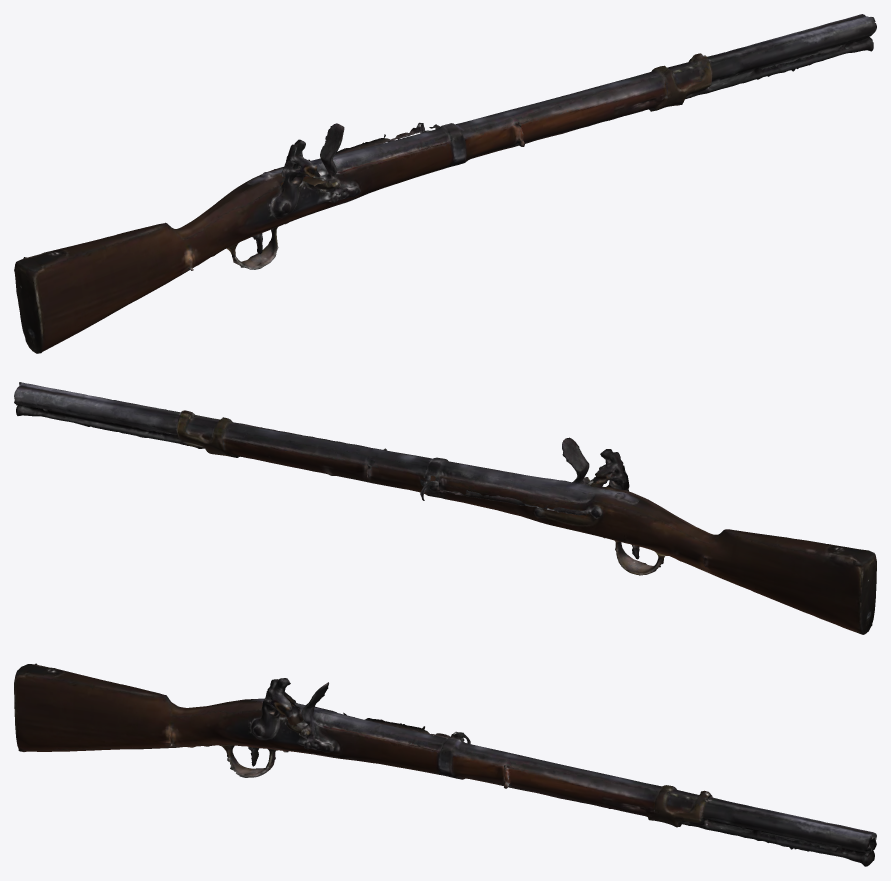
The model's file is 18th_century_musket_replica.lod2.glb.
The picture shows the model from 3 angles, top to bottom: view 1: azimuth 30°, elevation 25°; view 2: azimuth 150°, elevation 25°; view 3: azimuth 330°, elevation 25°; orthographic projection. The views are drawn at different scales.
Visible parts, largest first — view 1: Object_2; view 2: Object_2; view 3: Object_2.
Boxes of the visible parts, x1,y1,x2,y2 form: Object_2: (14, 14, 876, 353); Object_2: (14, 382, 876, 634); Object_2: (14, 663, 876, 866).
Size of the model in its own units: 1147 by 175 by 136.
Materials: 1 (1 with a texture image).
